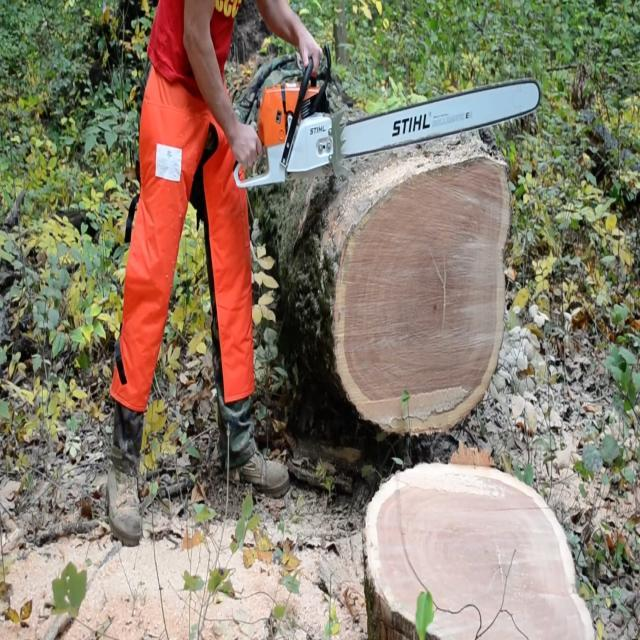Chainsaw: (215, 44, 555, 172)
